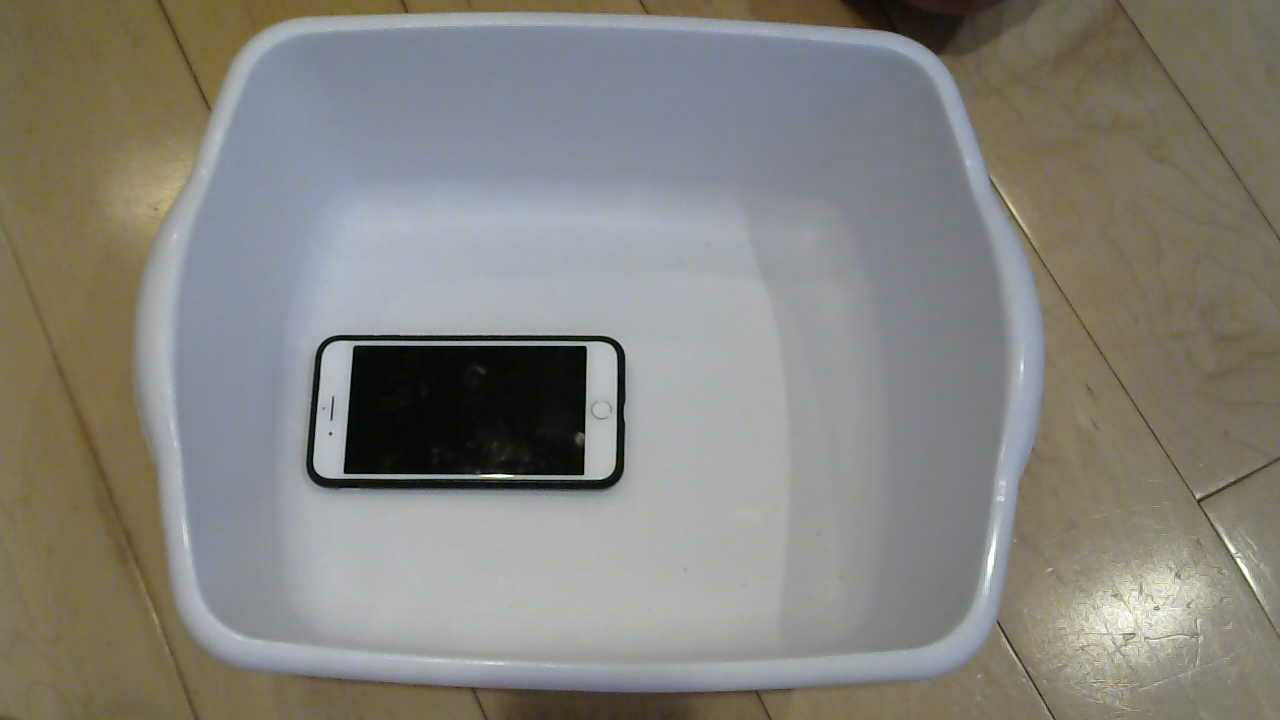phone: (291, 311, 665, 504)
